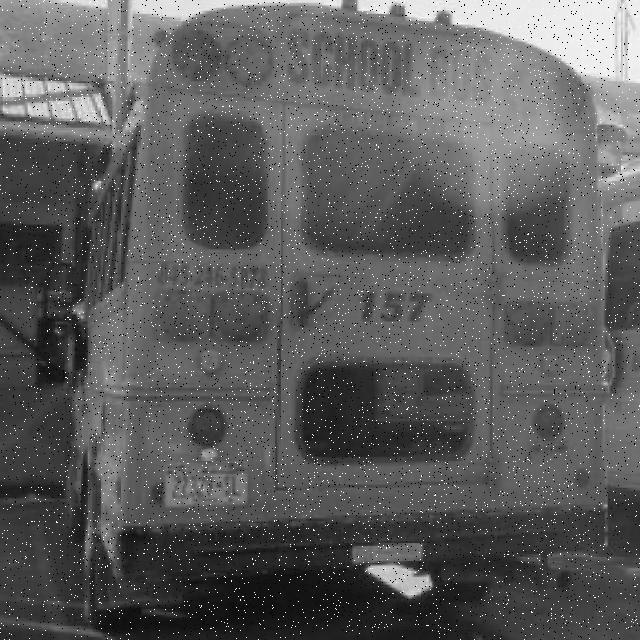Bus- Small: (47, 0, 608, 630)
